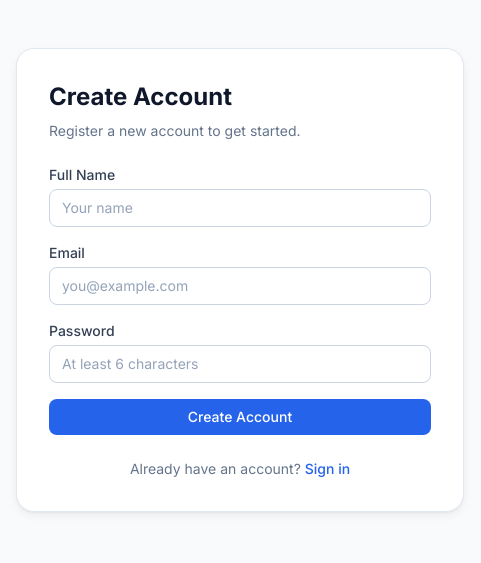
signup page › T. duplicate account surfaces the backend message
Expected: the heading "Create Account" is shown, top-left (49, 82), bottom-right (232, 111)
Type "dup@x.io" into the field with placeholder "you@example.com" at (240, 286), box top-left (49, 267), bottom-right (431, 305)
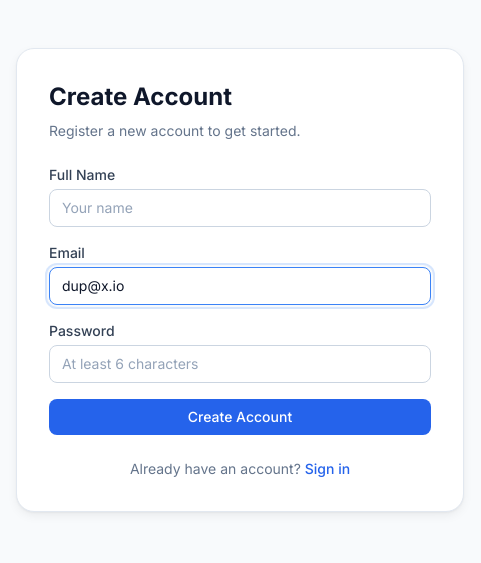
Type "pw123456" into the password field with placeholder "At least 6 characters" at (240, 364), box top-left (49, 345), bottom-right (431, 383)
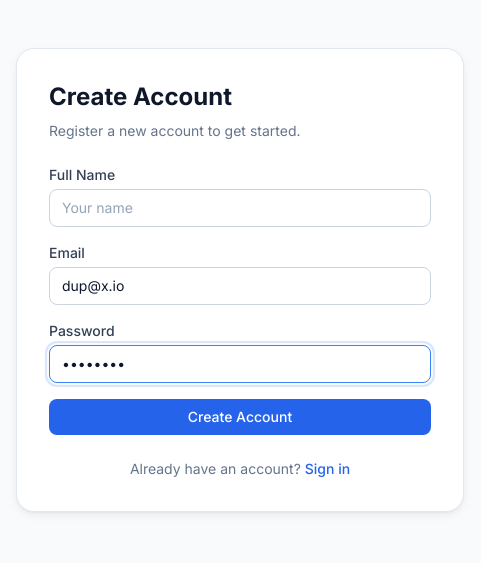
Click the button "Create Account" at (240, 417), box top-left (49, 399), bottom-right (431, 435)
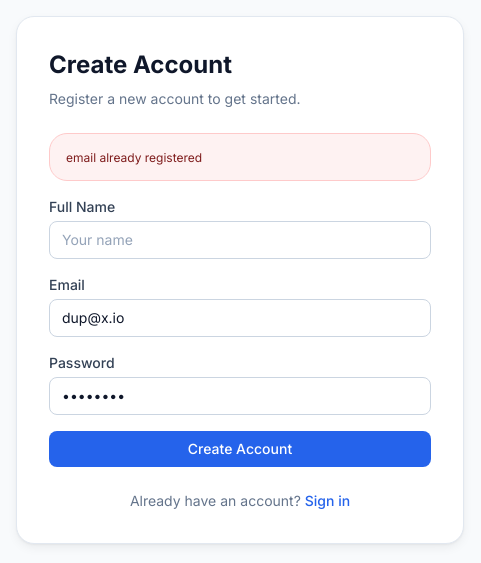
Result: the text "email already registered" is shown at top-left (66, 150), bottom-right (202, 165)
